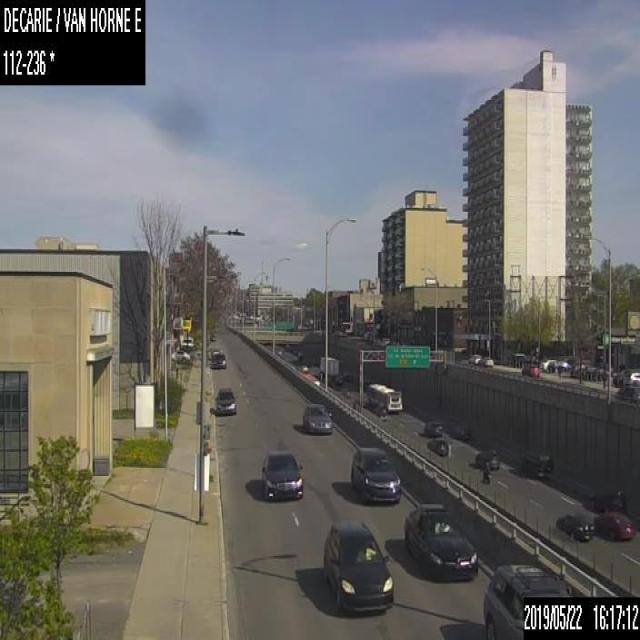Car: (321, 519, 394, 614), (482, 563, 573, 639), (403, 502, 478, 581), (349, 446, 401, 504), (260, 449, 304, 501), (302, 403, 333, 434), (214, 387, 236, 415)
Traffic-sign: (383, 344, 430, 368)
